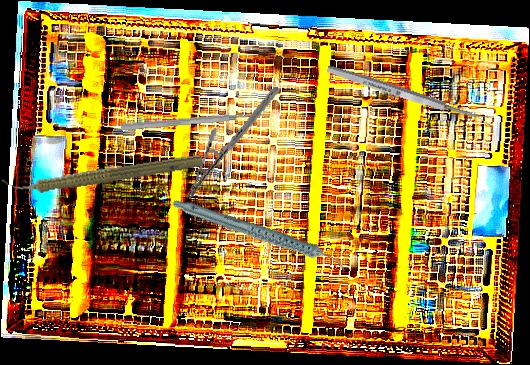Handpiece: (170, 166, 349, 305), (0, 146, 204, 202)
Needle Holder: (185, 75, 280, 211)
Pusher: (120, 109, 271, 133)
Surgical Spoon: (325, 63, 495, 128)
